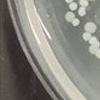white: (82, 20, 98, 34), (76, 5, 88, 18), (64, 11, 76, 23), (86, 44, 99, 55), (70, 17, 82, 28), (67, 2, 78, 12), (81, 32, 92, 42), (88, 36, 99, 46), (94, 46, 100, 62), (77, 0, 90, 7), (63, 0, 75, 4), (95, 40, 100, 48)
